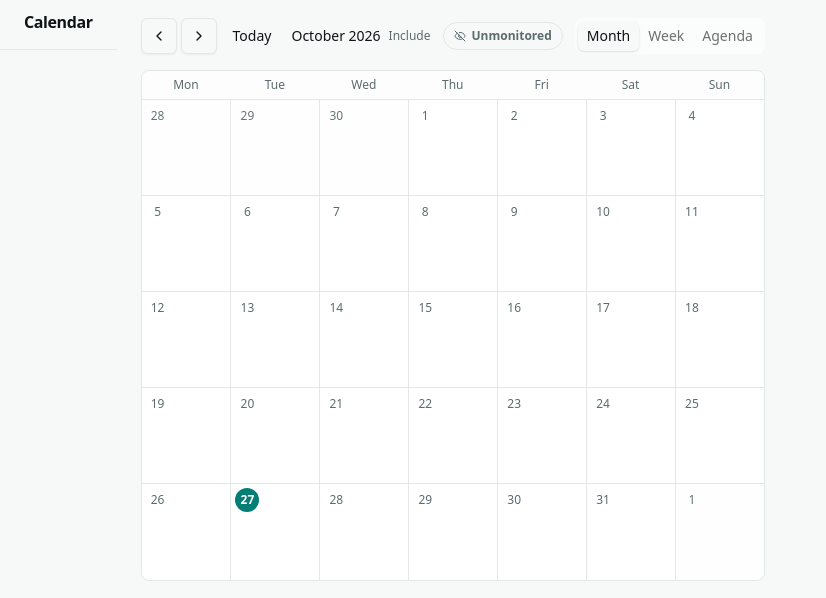
Test case: CalendarPage › names the empty week without the word episodes
Click the tab "Agenda".
click(728, 36)  # box [693,22,762,50]
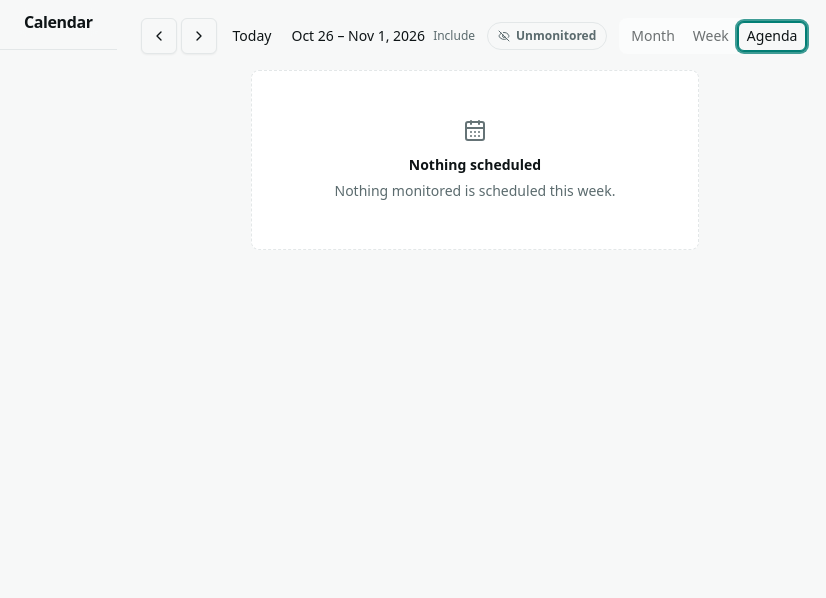
expect the text "Nothing monitored is scheduled this week." is shown: met, box [334,181,616,201]
expect the heading "Nothing scheduled" is shown: met, box [409,155,541,175]
